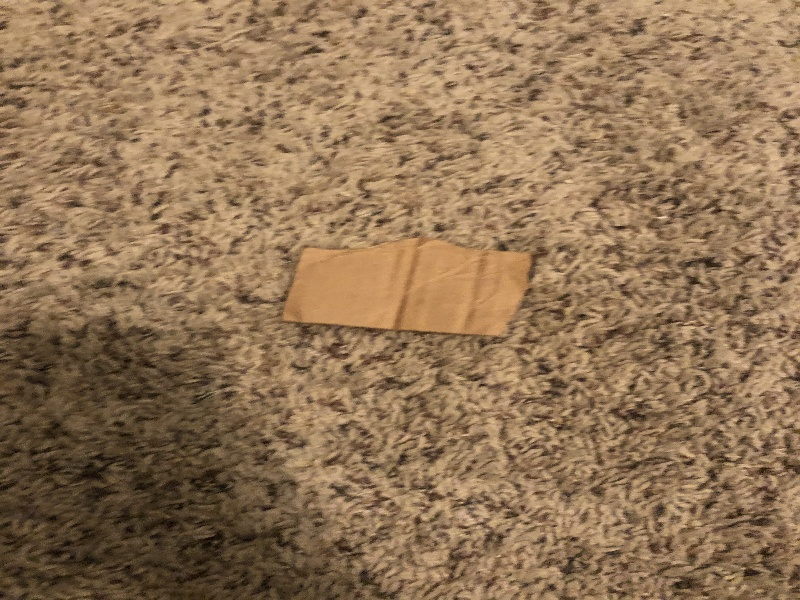cardboard: (273, 234, 530, 349)
